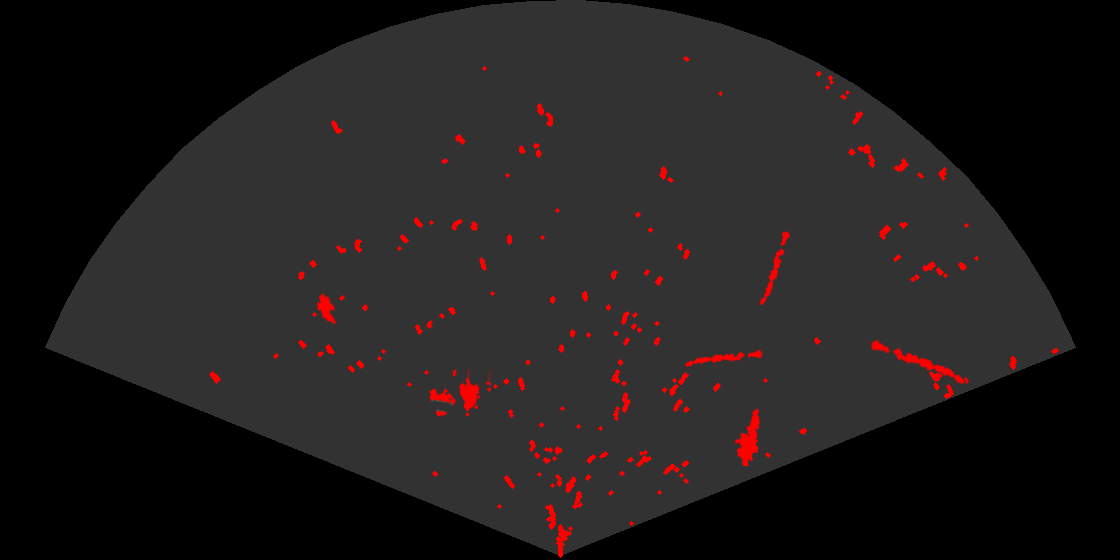AUV: (315, 292, 338, 326)
cage: (427, 370, 491, 418)
chain: (866, 338, 967, 386), (758, 228, 792, 307), (683, 348, 763, 368)
frogman: (733, 407, 761, 466)
